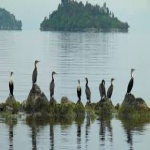Lake: (3, 25, 147, 100)
